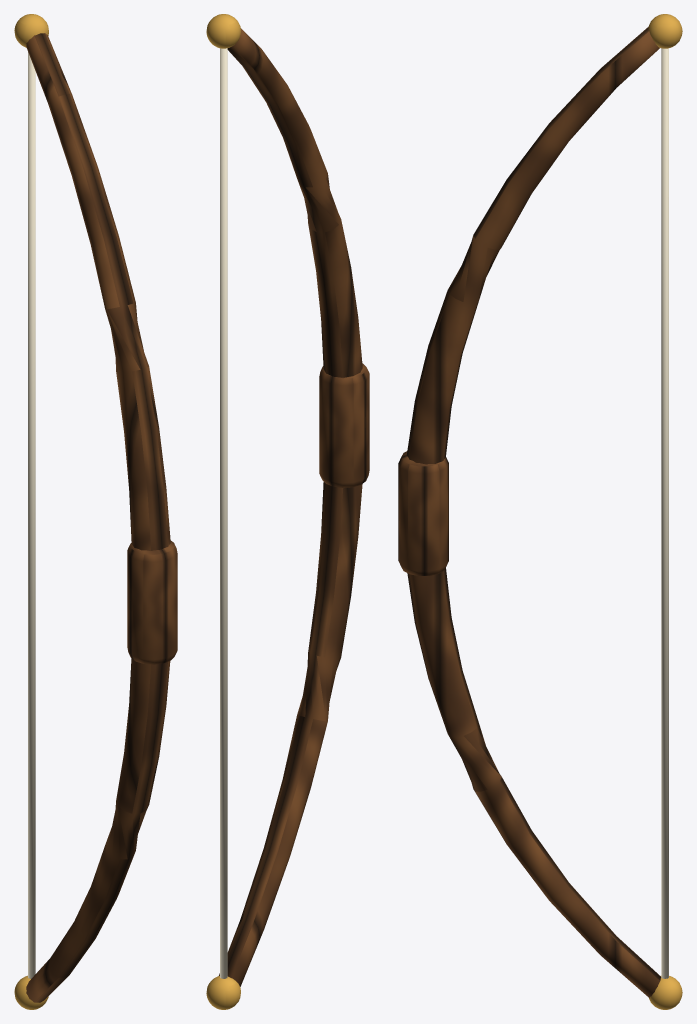
The model's file is hunting_bow.glb.
The picture shows the model from 3 angles, left to right: view 1: azimuth 30°, elevation 25°; view 2: azimuth 150°, elevation 25°; view 3: azimuth 270°, elevation 25°; orthographic projection.
Visible parts, largest first — view 1: RecurveLimbs, BowString, BowGrip, HornTip.001, HornTip; view 2: RecurveLimbs, BowString, BowGrip, HornTip.001, HornTip; view 3: RecurveLimbs, BowString, BowGrip, HornTip.001, HornTip.
Part boxes in pixels (left/top/right/bottom): RecurveLimbs: left=26, top=33, right=170, bottom=1002; BowString: left=28, top=52, right=35, bottom=978; BowGrip: left=127, top=540, right=177, bottom=664; HornTip.001: left=14, top=14, right=48, bottom=47; HornTip: left=14, top=975, right=48, bottom=1009; RecurveLimbs: left=219, top=28, right=362, bottom=986; BowString: left=220, top=48, right=227, bottom=978; BowGrip: left=319, top=363, right=369, bottom=487; HornTip.001: left=206, top=14, right=240, bottom=48; HornTip: left=206, top=976, right=240, bottom=1009; RecurveLimbs: left=406, top=27, right=661, bottom=997; BowString: left=661, top=48, right=668, bottom=978; BowGrip: left=398, top=451, right=448, bottom=575; HornTip.001: left=648, top=14, right=682, bottom=48; HornTip: left=649, top=976, right=682, bottom=1009.
Size of the model in its own units: 0.0624 by 1.38 by 0.359.
4 materials, 3 textured.
